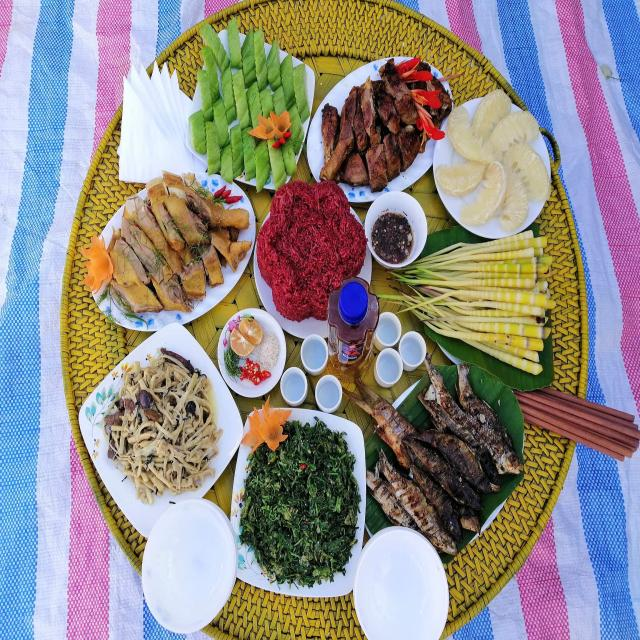buoi: (436, 94, 558, 234)
ca nuong: (337, 360, 557, 570)
ga luoc: (89, 186, 259, 316)
kho qua: (184, 14, 316, 188)
mang luoc: (411, 234, 563, 374)
rau cu xao: (93, 344, 223, 496)
vit quay: (315, 66, 450, 192)
xoi: (250, 191, 373, 329)
